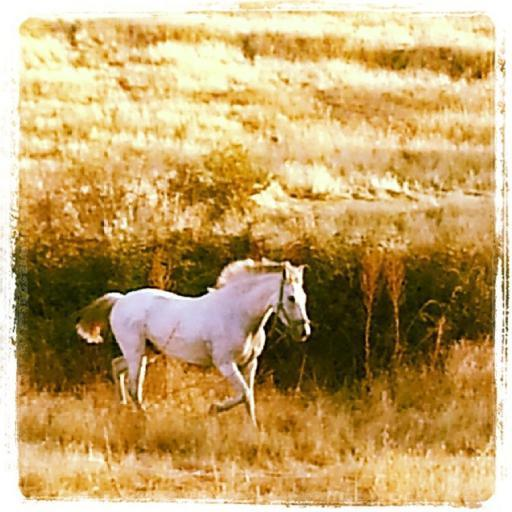horse: (68, 261, 312, 428)
